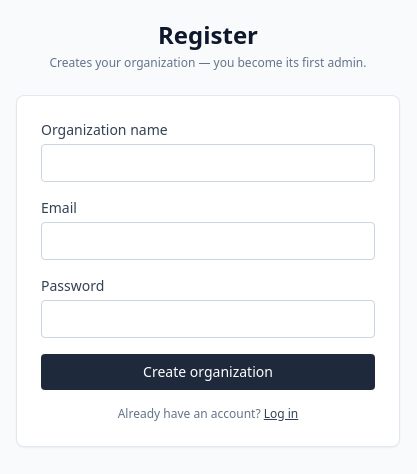
Test case: RegisterPage › rejects short passwords client-side
Type "Acme" into the field labelled "Organization name" at coordinates (208, 163), box [41,144,375,182]
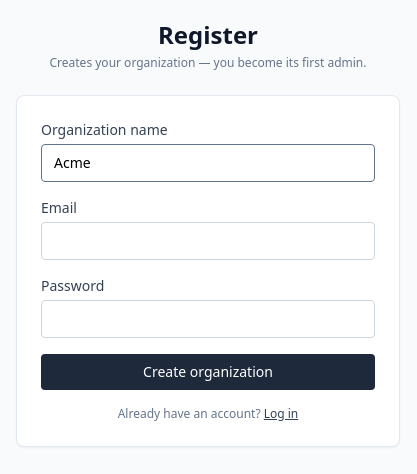
Type "a@example.com" into the field labelled "Email" at coordinates (208, 241), box [41,222,375,260]
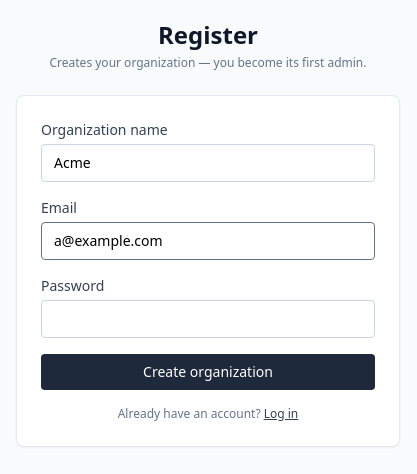
Type "short" into the password field labelled "Password" at coordinates (208, 319), box [41,300,375,338]
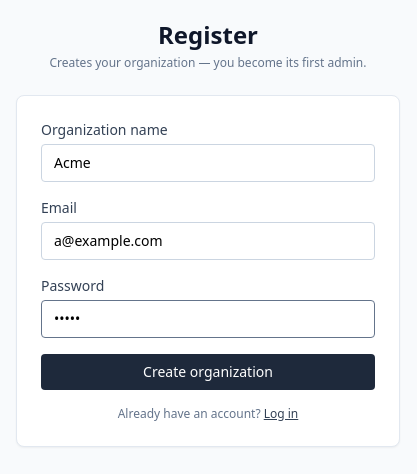
Click the button with test id "register-submit" at coordinates (208, 372), box [41,354,375,390]
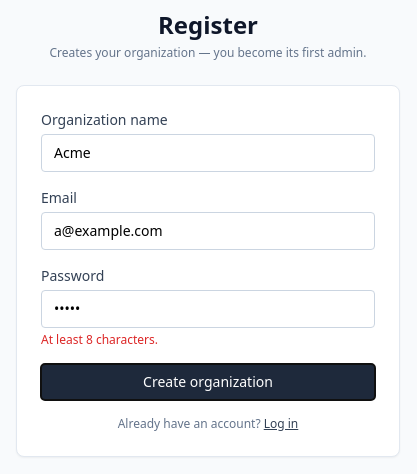
Now the text "At least 8 characters." is shown, box [41,331,158,348]
